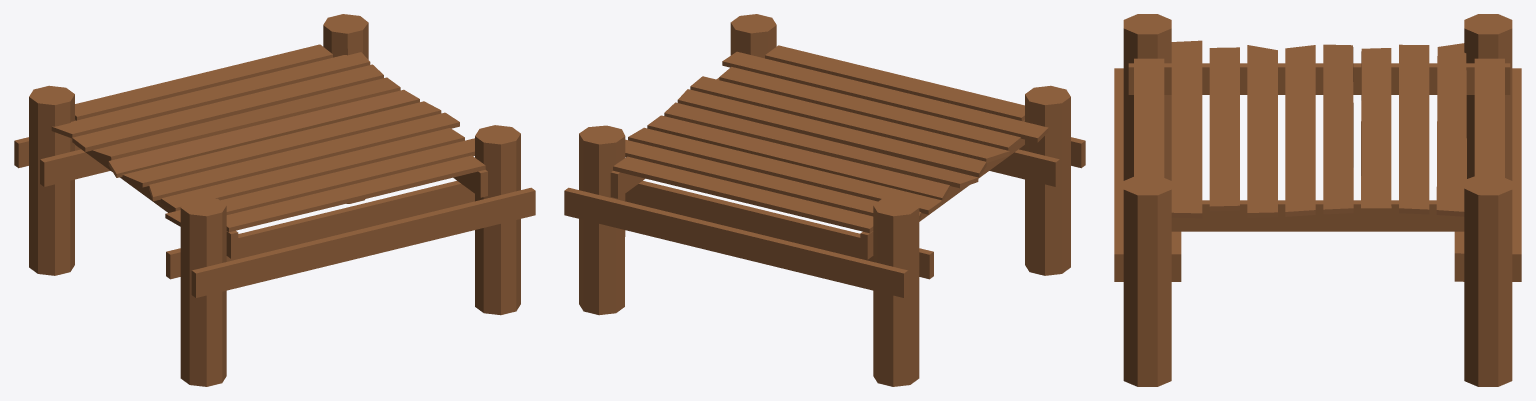
The model's file is Crocked Dock.fbx.
3 renders of one model, left to right at view 1: azimuth 30°, elevation 25°; view 2: azimuth 150°, elevation 25°; view 3: azimuth 270°, elevation 25°, orthographic. The views are drawn at different scales.
Parts seen in each view (by area): view 1: Crocked Dock; view 2: Crocked Dock; view 3: Crocked Dock.
Boxes of the visible parts, x1,y1,x2,y2 form: Crocked Dock: (14,14,535,386); Crocked Dock: (564,14,1085,386); Crocked Dock: (1114,14,1521,386).
Size of the model in its own units: 407 by 195 by 377.
